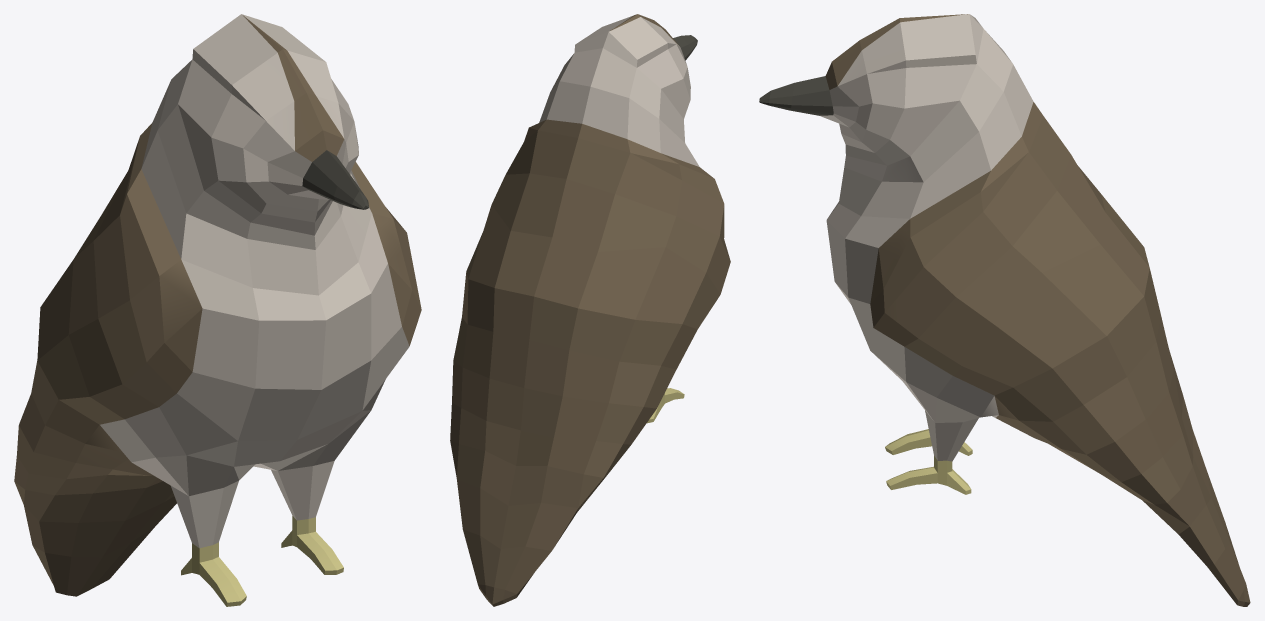
The model's file is Kookaburra.fbx.
3 views of the same model, side by side, from view 1: azimuth 30°, elevation 25°; view 2: azimuth 150°, elevation 25°; view 3: azimuth 270°, elevation 25° (orthographic). The views are drawn at different scales.
Visible parts, largest first — view 1: Kookaburra; view 2: Kookaburra; view 3: Kookaburra.
Boxes of the visible parts, bbox=[...] form: Kookaburra: bbox=[14, 14, 421, 606]; Kookaburra: bbox=[450, 14, 730, 606]; Kookaburra: bbox=[759, 14, 1250, 606].
Size of the model in its own units: 9.29 by 19.98 by 15.
